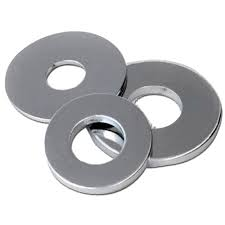No thread: (65, 115, 129, 166), (41, 52, 90, 91)
